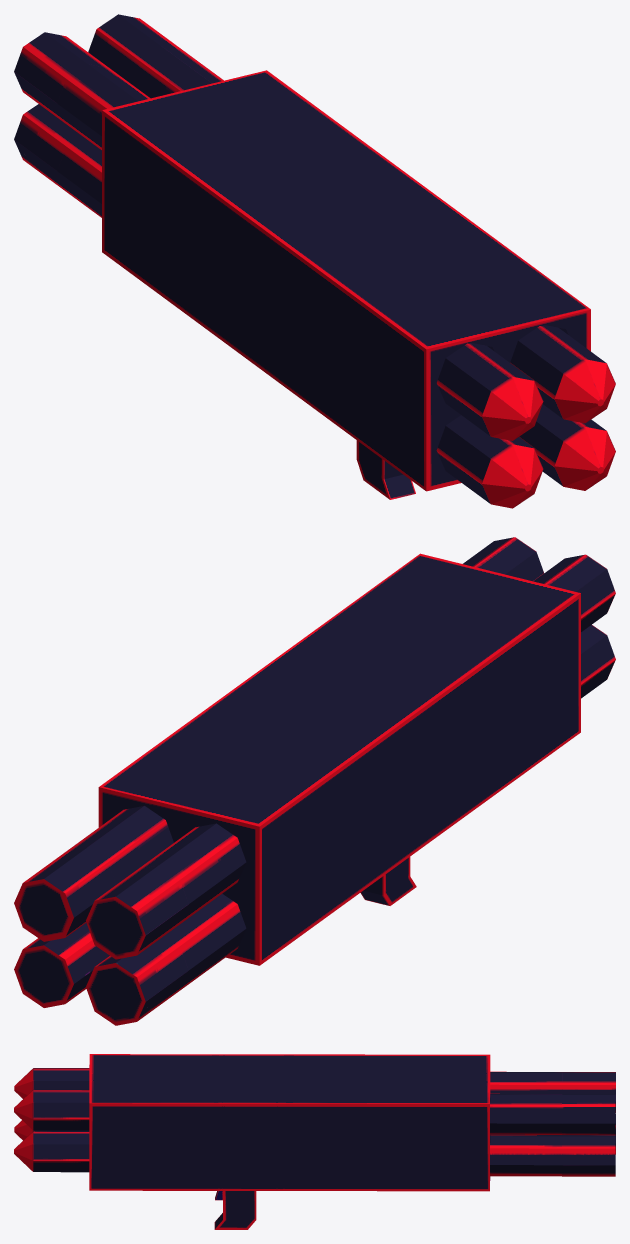
The model's file is rocket_scaled.fbx.
3 renders of one model, top to bottom at view 1: azimuth 30°, elevation 25°; view 2: azimuth 150°, elevation 25°; view 3: azimuth 270°, elevation 25°, orthographic. The views are drawn at different scales.
Visible parts, largest first — view 1: Cube.001, Cylinder.001, faceOne, faceOne.001, faceOne.002, Cylinder, Cylinder.002, faceOne.003; view 2: Cube.001, Cylinder.001, Cylinder, Cylinder.002, Cylinder.003, faceOne, faceOne.001, faceOne.002; view 3: Cube.001, Cylinder.003, Cylinder, faceOne.001, Cylinder.001, faceOne.003, faceOne, faceOne.002.
Boxes of the visible parts, bbox=[...] form: Cube.001: bbox=[102, 70, 590, 499]; Cylinder.001: bbox=[14, 32, 150, 149]; faceOne: bbox=[437, 343, 543, 440]; faceOne.001: bbox=[510, 325, 615, 423]; faceOne.002: bbox=[436, 415, 543, 508]; Cylinder: bbox=[88, 14, 223, 98]; Cylinder.002: bbox=[14, 104, 101, 217]; faceOne.003: bbox=[519, 404, 615, 490]; Cube.001: bbox=[98, 553, 580, 965]; Cylinder.001: bbox=[86, 823, 246, 959]; Cylinder: bbox=[14, 806, 173, 941]; Cylinder.002: bbox=[86, 893, 246, 1025]; Cylinder.003: bbox=[14, 922, 109, 1007]; faceOne: bbox=[533, 554, 615, 631]; faceOne.001: bbox=[463, 537, 543, 581]; faceOne.002: bbox=[581, 625, 615, 698]; Cube.001: bbox=[89, 1054, 490, 1229]; Cylinder.003: bbox=[490, 1135, 615, 1176]; Cylinder: bbox=[490, 1093, 615, 1134]; faceOne.001: bbox=[14, 1089, 89, 1130]; Cylinder.001: bbox=[490, 1071, 615, 1112]; faceOne.003: bbox=[14, 1131, 89, 1172]; faceOne: bbox=[14, 1068, 89, 1098]; faceOne.002: bbox=[14, 1120, 88, 1140].
Bounding box in the file's own units: 24.71 × 34.23 × 126.
